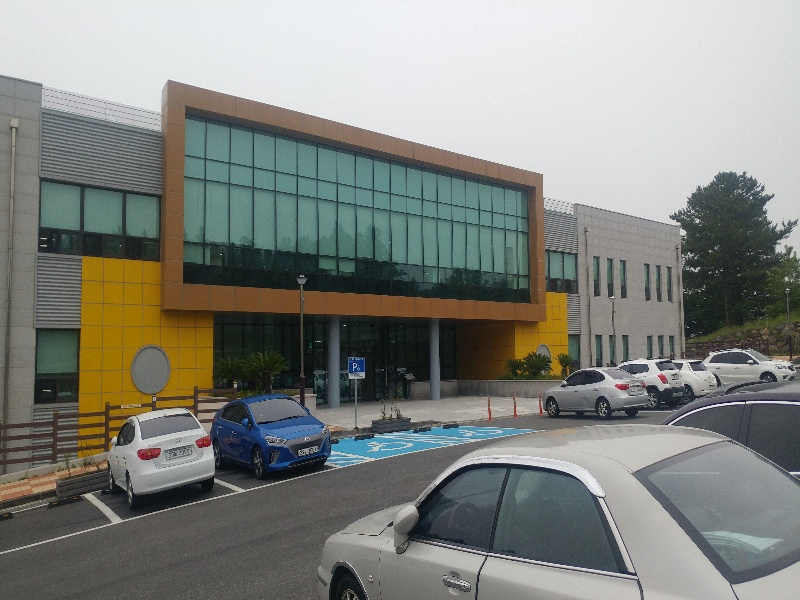Digital Library: (1, 109, 695, 364)
